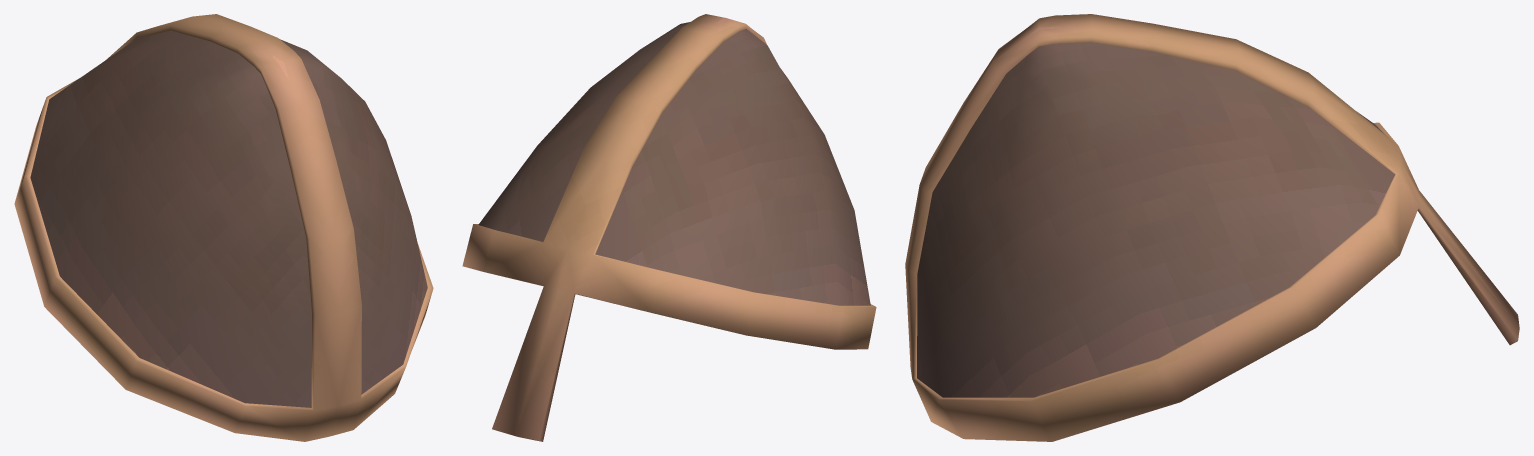
Rendered from HelmetBronze.fbx.
The picture shows the model from 3 angles, left to right: view 1: azimuth 30°, elevation 25°; view 2: azimuth 150°, elevation 25°; view 3: azimuth 270°, elevation 25°; orthographic projection. The views are drawn at different scales.
Visible parts, largest first — view 1: bronzehelmet; view 2: bronzehelmet; view 3: bronzehelmet.
Boxes of the visible parts, x1,y1,x2,y2 form: bronzehelmet: (14, 14, 433, 441); bronzehelmet: (462, 14, 876, 441); bronzehelmet: (905, 14, 1519, 441).
Size of the model in its own units: 20.56 by 19.25 by 27.93.
Materials: 1 (1 with a texture image).
